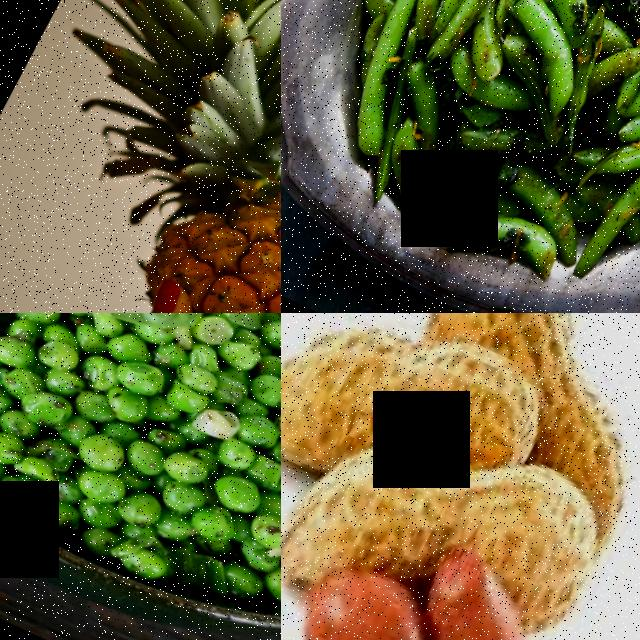peanuts: (281, 313, 558, 516), (281, 412, 482, 618), (388, 553, 573, 640), (281, 552, 442, 640)
peas: (0, 313, 281, 640)
pineapple: (25, 37, 281, 313)
